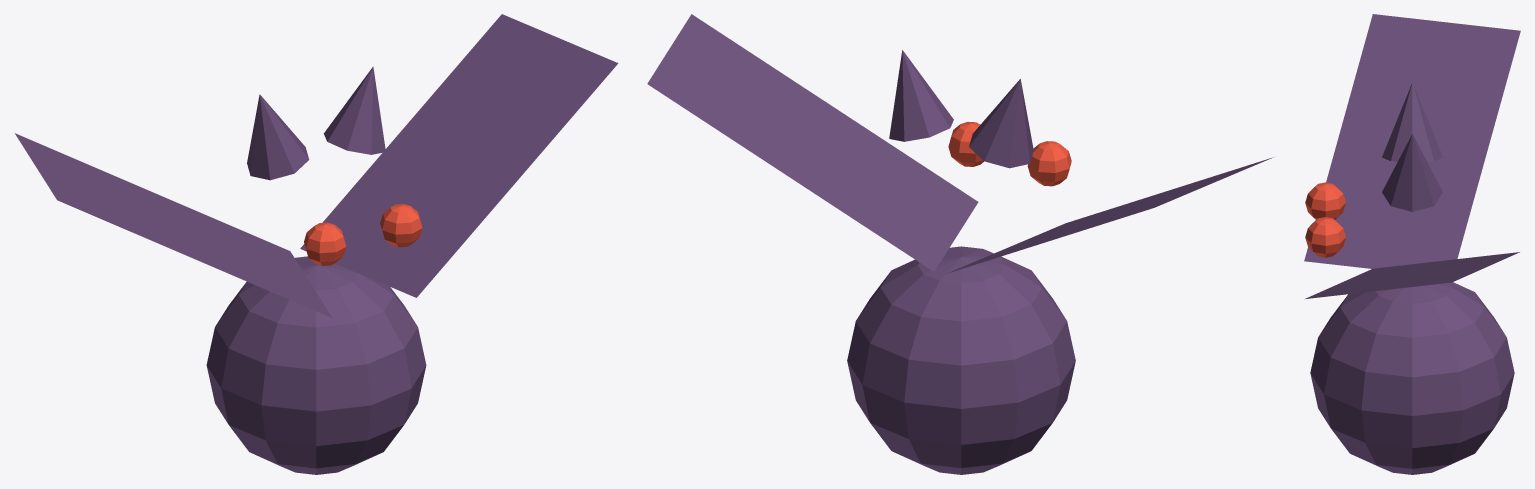
File: bat.glb
The picture shows the model from 3 angles, left to right: view 1: azimuth 30°, elevation 25°; view 2: azimuth 150°, elevation 25°; view 3: azimuth 270°, elevation 25°; orthographic projection. The views are drawn at different scales.
Visible parts, largest first — view 1: RightWing, BatBody, LeftWing, LeftEar, RightEar, RightEye, LeftEye; view 2: BatBody, RightWing, LeftEar, RightEar, LeftWing, LeftEye, RightEye; view 3: LeftWing, BatBody, RightWing, RightEar, LeftEar, RightEye, LeftEye.
Boxes of the visible parts, x1,y1,x2,y2 form: RightWing: (300, 14, 618, 297); BatBody: (206, 256, 426, 474); LeftWing: (14, 133, 332, 317); LeftEar: (247, 94, 309, 180); RightEar: (323, 66, 385, 154); RightEye: (380, 204, 422, 247); LeftEye: (304, 222, 346, 265); BatBody: (847, 246, 1075, 474); RightWing: (647, 14, 978, 271); LeftEar: (969, 79, 1033, 168); RightEar: (889, 50, 953, 141); LeftWing: (946, 157, 1273, 273); LeftEye: (1027, 141, 1071, 186); RightEye: (948, 121, 983, 166); LeftWing: (1304, 14, 1520, 268); BatBody: (1310, 282, 1514, 474); RightWing: (1304, 252, 1519, 299); RightEar: (1382, 134, 1442, 211); LeftEar: (1382, 82, 1442, 161); RightEye: (1305, 217, 1345, 257); LeftEye: (1305, 182, 1345, 219).
Size of the model in its own units: 1.18 by 0.7724 by 0.4243.
